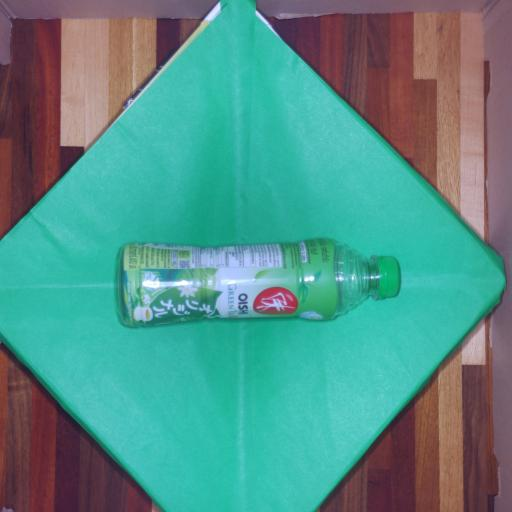bottle: (117, 238, 403, 328)
